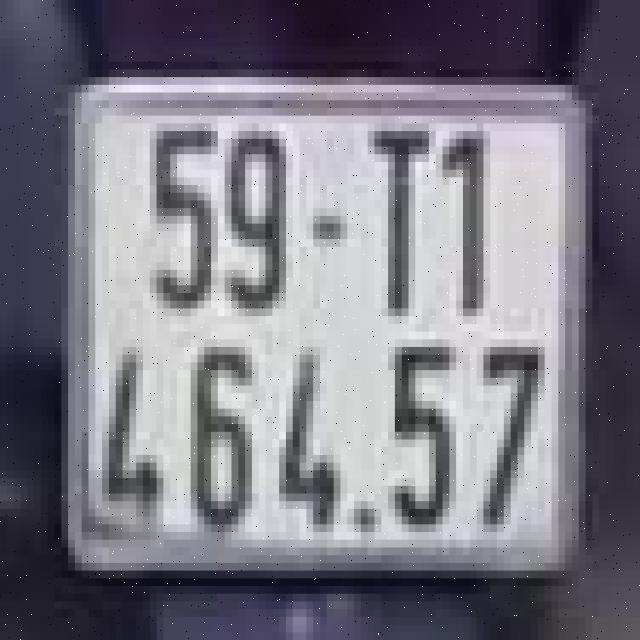1: (436, 120, 504, 328)
4: (276, 340, 350, 548), (95, 335, 163, 536)
5: (140, 112, 221, 328), (381, 332, 463, 532)
6: (174, 336, 262, 552)
7: (466, 335, 555, 536)
9: (218, 127, 293, 328)
T: (358, 112, 432, 335)
